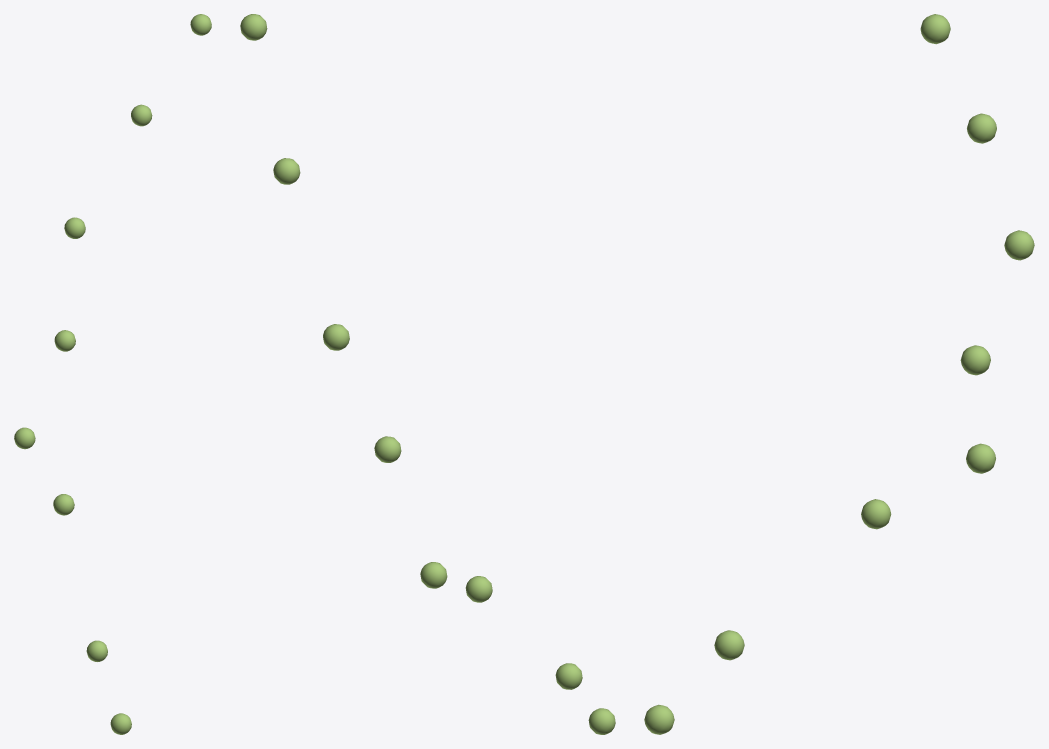
Rendered from medial-external-iliac-nodes-r.glb.
3 views of the same model, side by side, from view 1: azimuth 30°, elevation 25°; view 2: azimuth 150°, elevation 25°; view 3: azimuth 270°, elevation 25° (orthographic). The views are drawn at different scales.
Visible parts, largest first — view 1: Medial external iliac nodes.r; view 2: Medial external iliac nodes.r; view 3: Medial external iliac nodes.r.
Part boxes in pixels (<box>): Medial external iliac nodes.r: <box>14,14,211,734</box>; Medial external iliac nodes.r: <box>240,14,615,734</box>; Medial external iliac nodes.r: <box>644,14,1034,734</box>.
Bounding box in the file's own units: 0.0272 × 0.0794 × 0.0335.
